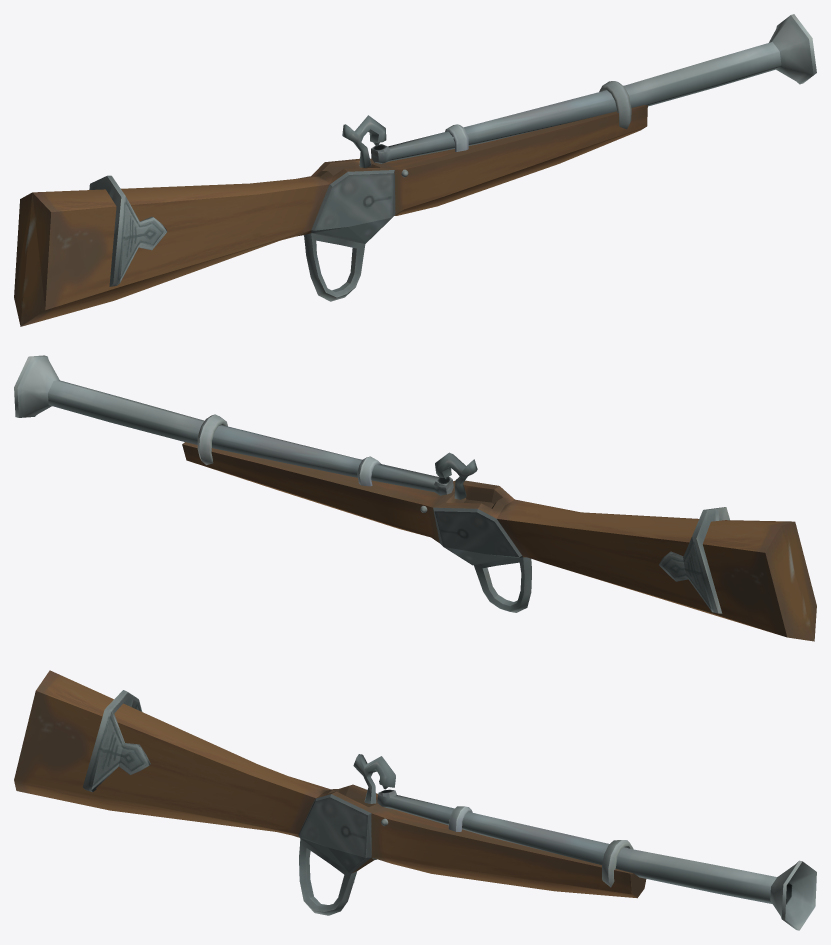
File: gun.glb
The picture shows the model from 3 angles, top to bottom: view 1: azimuth 30°, elevation 25°; view 2: azimuth 150°, elevation 25°; view 3: azimuth 330°, elevation 25°; orthographic projection. The views are drawn at different scales.
Visible parts, largest first — view 1: gun, Line001; view 2: gun, Line001; view 3: gun, Line001.
Part boxes in pixels (box(x1,y1,x2,y2)): gun: box(14, 14, 816, 326); Line001: box(342, 115, 386, 167); gun: box(14, 355, 816, 641); Line001: box(435, 452, 477, 499); gun: box(14, 670, 816, 930); Line001: box(353, 754, 395, 803).
Size of the model in its own units: 0.9381 by 0.191 by 0.0875.
Materials: 1 (1 with a texture image).
